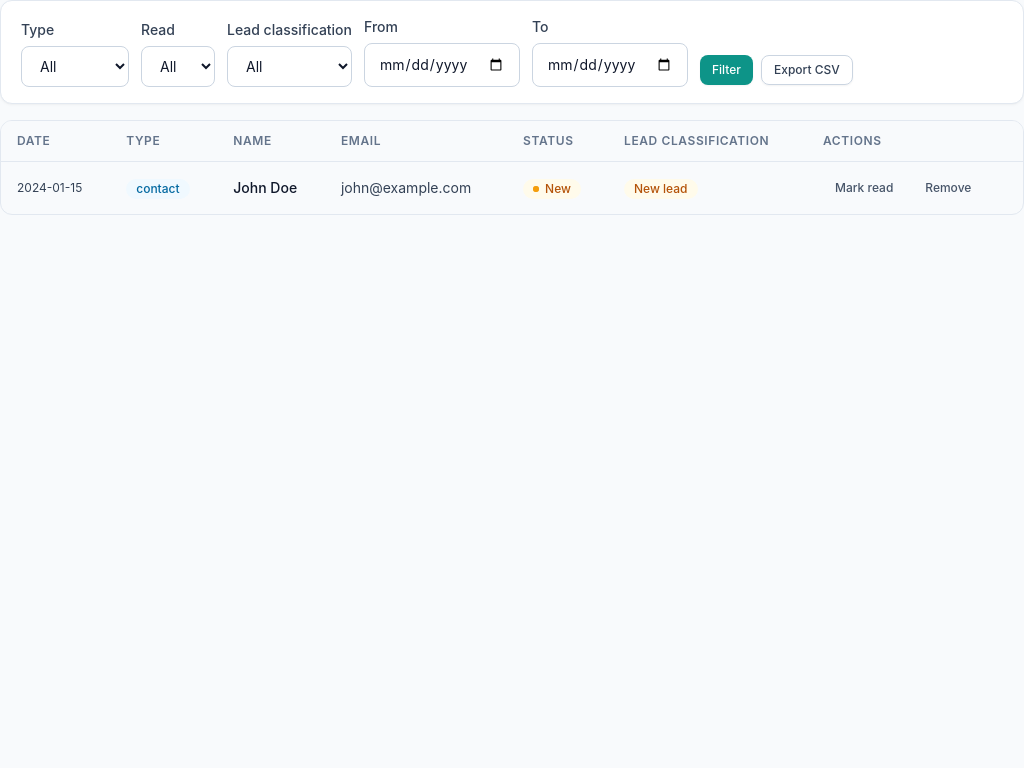
Test: FormsList › opens slide-over when row is clicked
Click the text "John Doe" at (271,188), box [217,162,325,214]
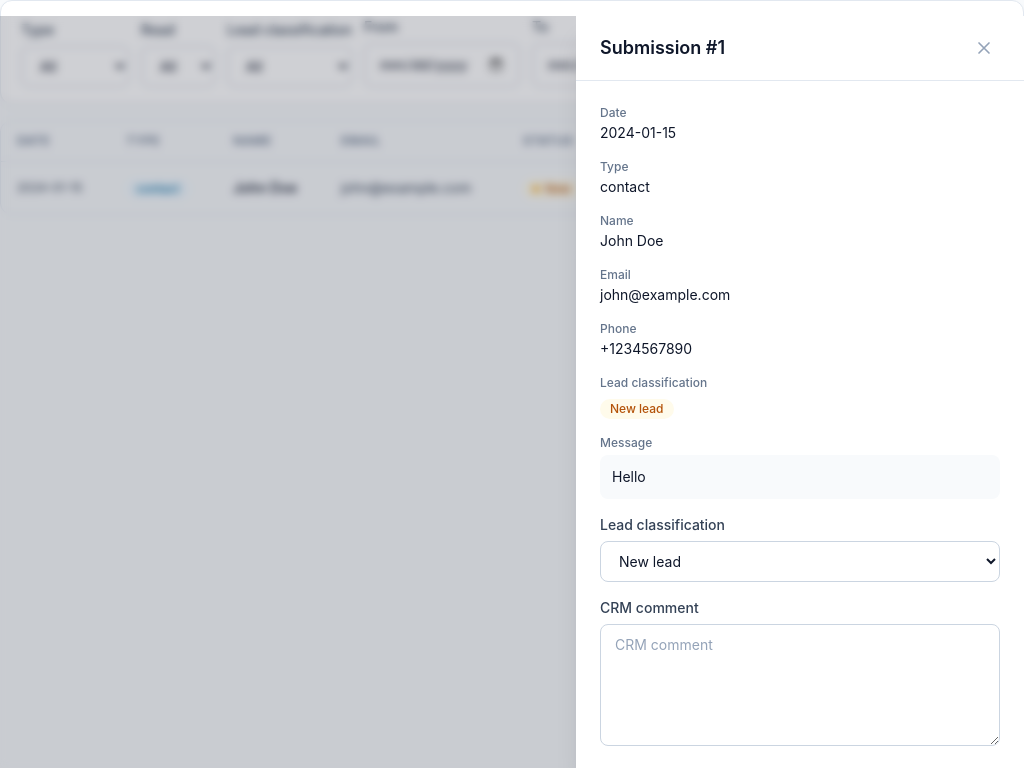
Check: the heading "Submission #1" is shown, box [600,34,725,62]
